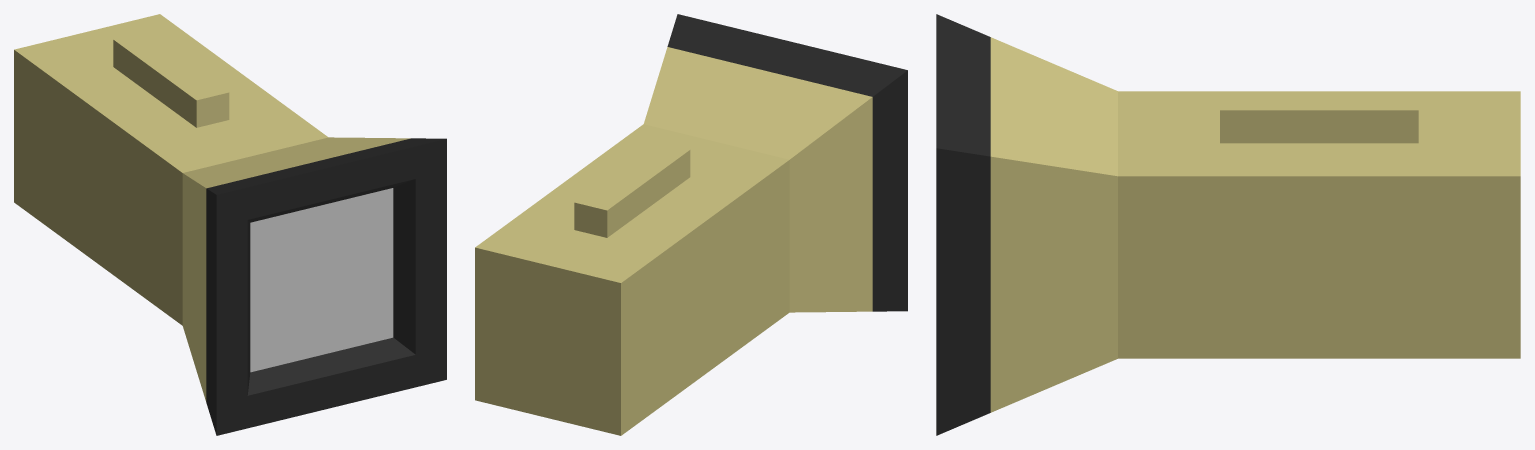
Rendered from handlight.fbx.
3 views of the same model, side by side, from view 1: azimuth 30°, elevation 25°; view 2: azimuth 150°, elevation 25°; view 3: azimuth 270°, elevation 25° (orthographic). The views are drawn at different scales.
Visible parts, largest first — view 1: Cube.015; view 2: Cube.015; view 3: Cube.015.
Boxes of the visible parts, left/top/right/bottom form: Cube.015: left=14, top=14, right=446, bottom=435; Cube.015: left=475, top=14, right=907, bottom=435; Cube.015: left=936, top=14, right=1520, bottom=435.
Size of the model in its own units: 25.19 by 25.19 by 46.35.
